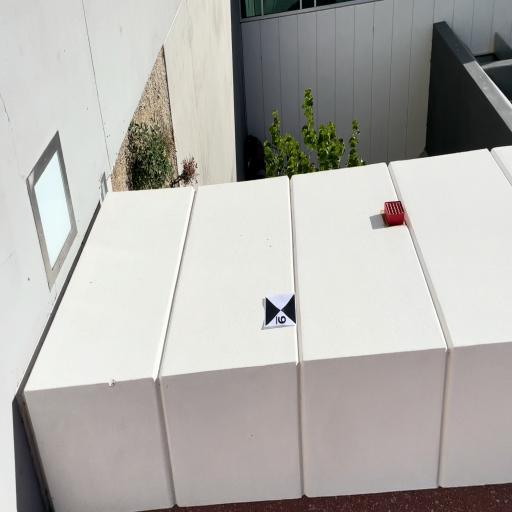target9: (264, 291, 297, 327)
